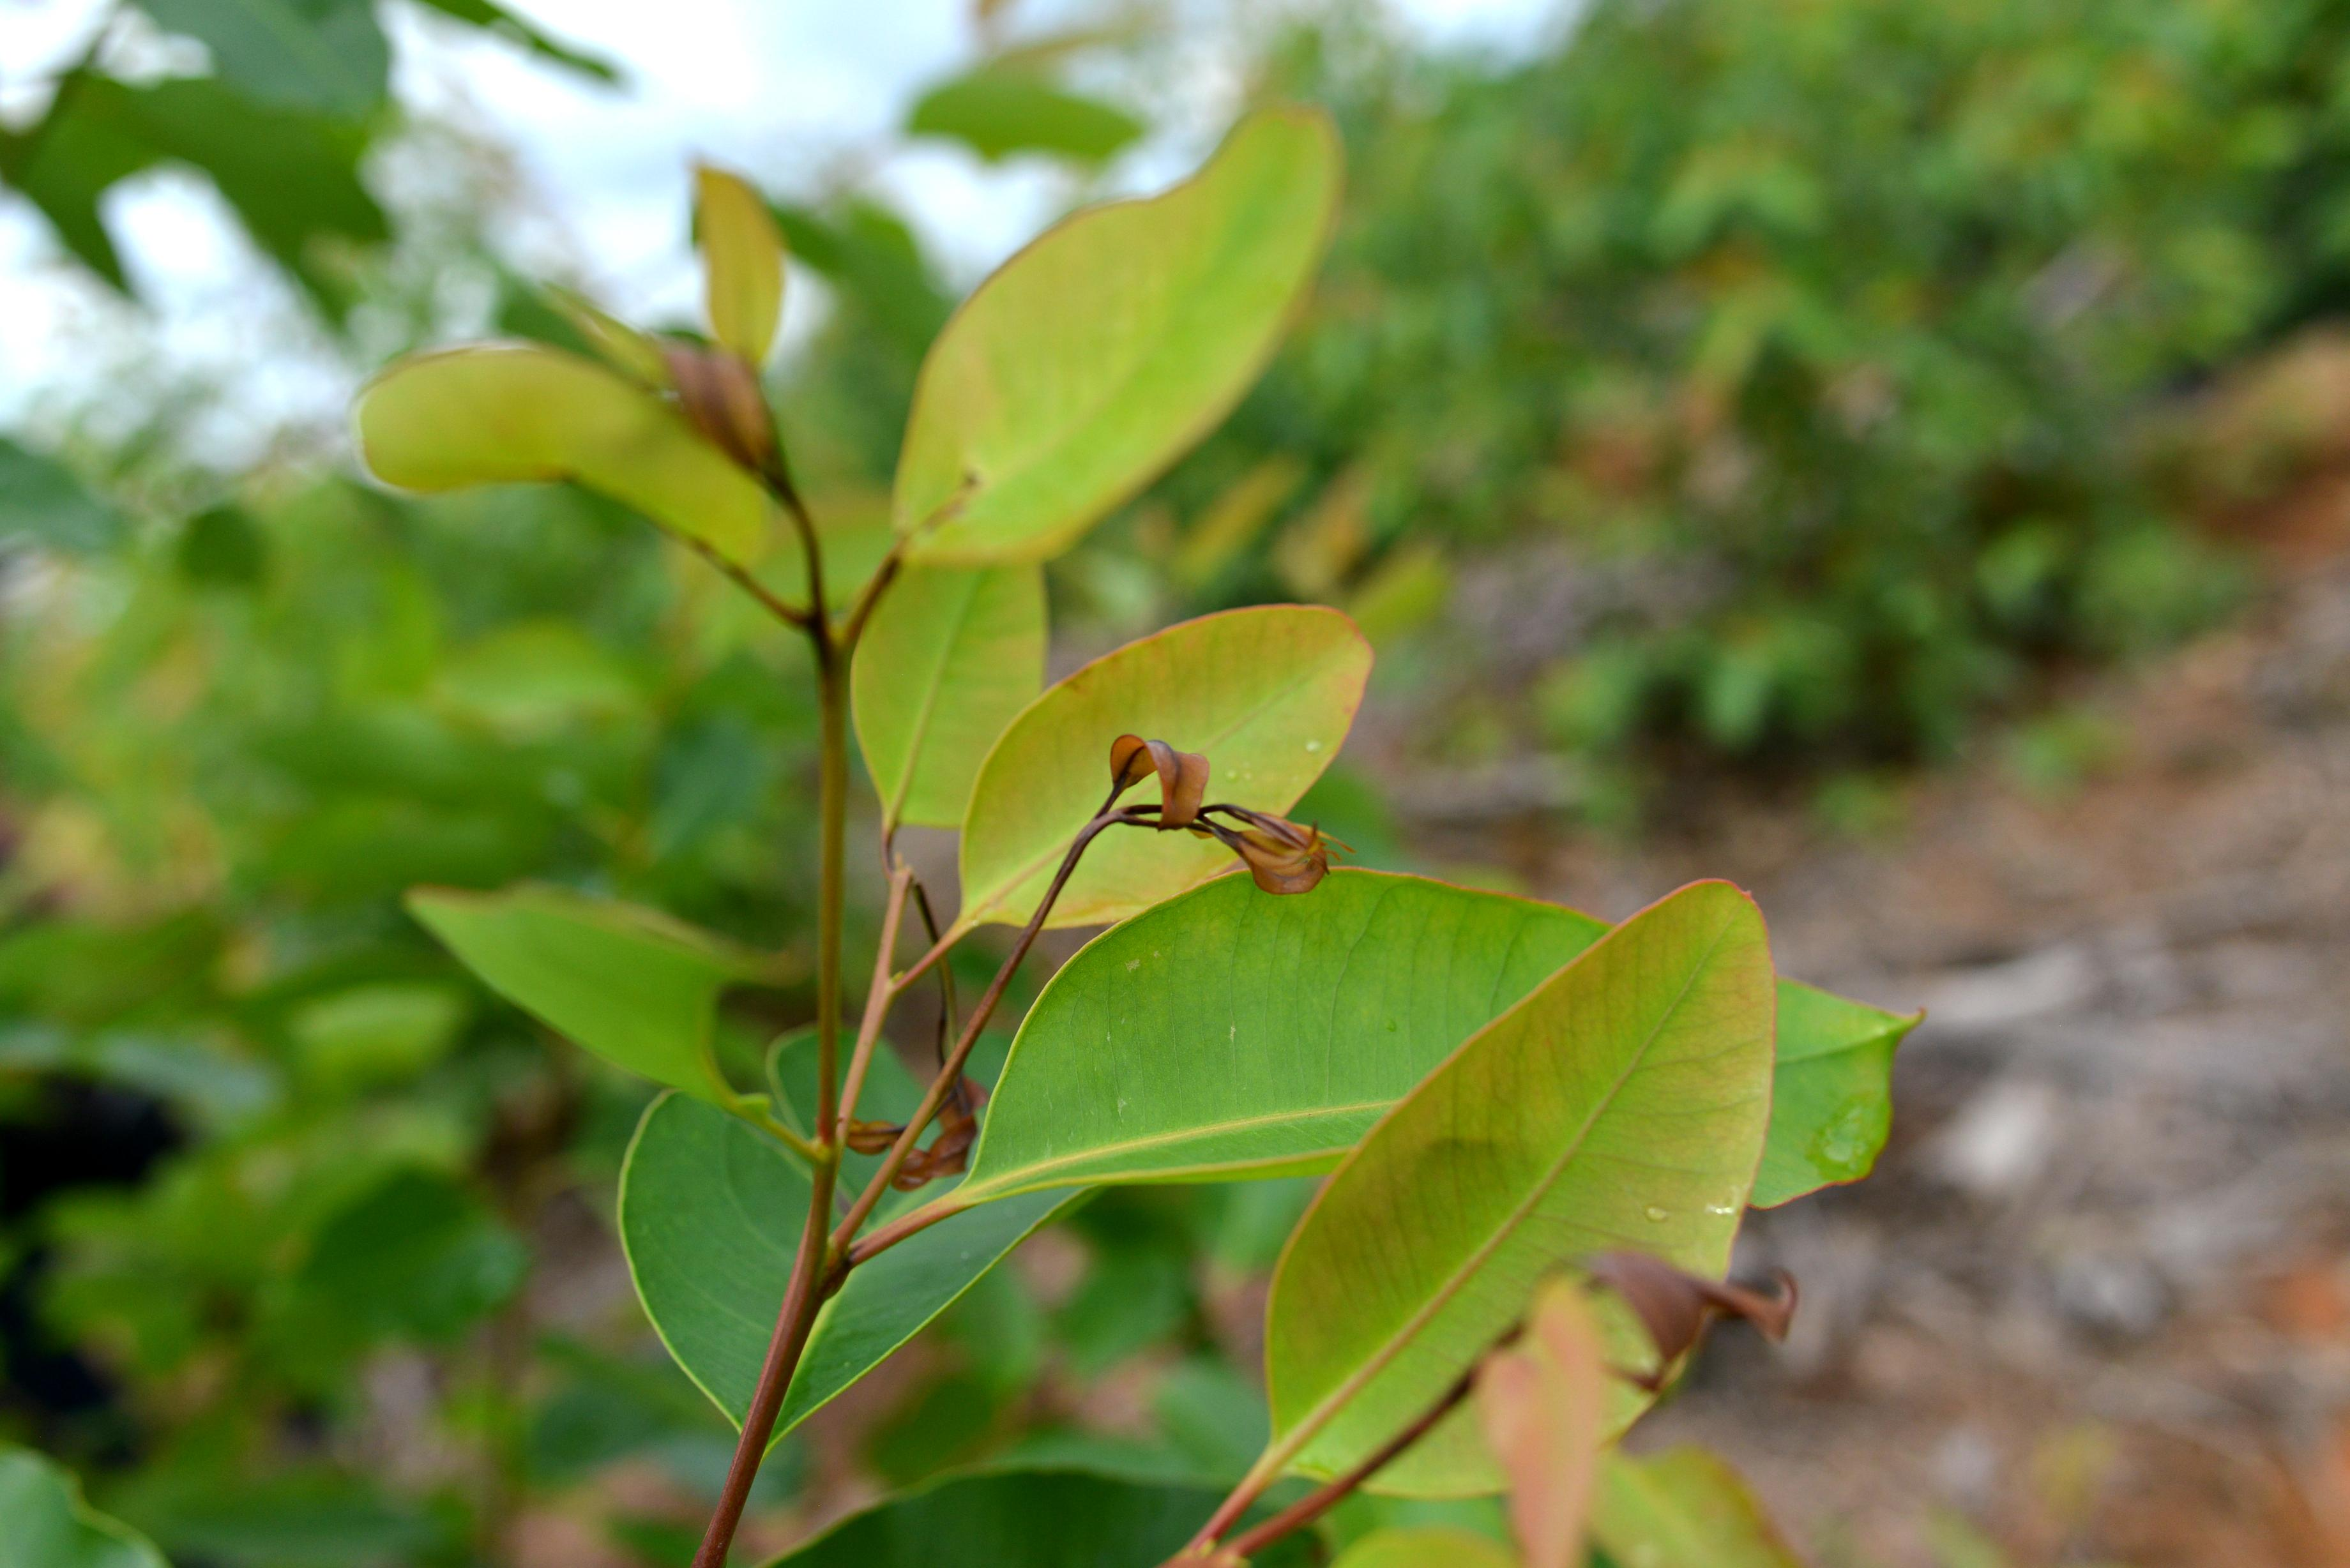Helopeltis-Withered Sprout: (1545, 1221, 1811, 1414), (647, 327, 814, 523), (843, 961, 976, 1195), (1108, 733, 1213, 838), (1244, 803, 1339, 875), (1239, 836, 1333, 898)
